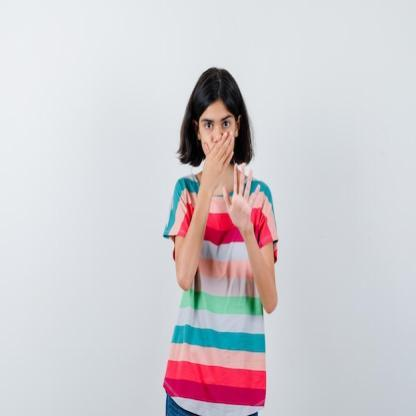stop: (220, 162, 262, 228)
